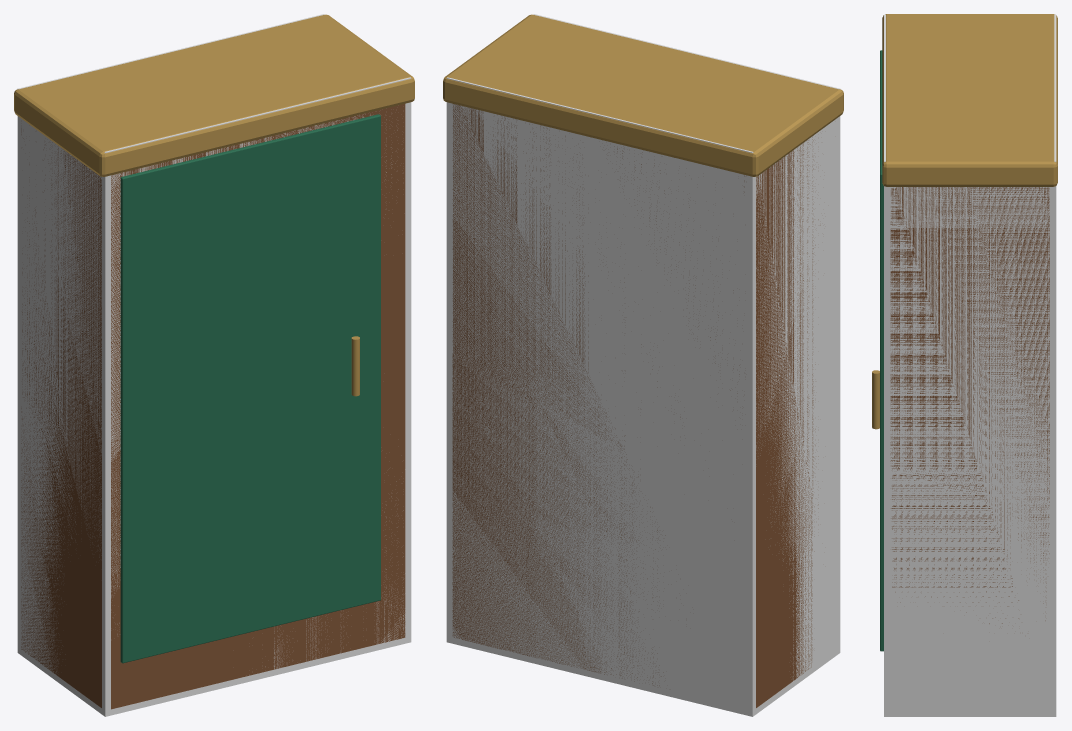
File: filing-cabinet_boutique.glb
3 views of the same model, side by side, from view 1: azimuth 30°, elevation 25°; view 2: azimuth 150°, elevation 25°; view 3: azimuth 270°, elevation 25° (orthographic).
Parts seen in each view (by area): view 1: MESH_Door_01, MESH_CabinetCarcass, COL_filing-cabinet, MESH_Crown; view 2: COL_filing-cabinet, MESH_CabinetCarcass, MESH_Crown; view 3: COL_filing-cabinet, MESH_CabinetCarcass, MESH_Crown, MESH_Door_01, MESH_Handle.
Boxes of the visible parts, x1,y1,x2,y2 form: MESH_Door_01: (120, 114, 380, 663); MESH_CabinetCarcass: (21, 104, 405, 709); COL_filing-cabinet: (17, 14, 411, 716); MESH_Crown: (14, 14, 414, 176); COL_filing-cabinet: (446, 14, 840, 716); MESH_CabinetCarcass: (452, 104, 820, 707); MESH_Crown: (443, 14, 843, 176); COL_filing-cabinet: (884, 14, 1056, 716); MESH_CabinetCarcass: (890, 187, 1049, 623); MESH_Crown: (882, 14, 1057, 186); MESH_Door_01: (880, 50, 883, 651); MESH_Handle: (872, 370, 879, 429).
Size of the model in its own units: 1.08 by 1.85 by 0.5612.
